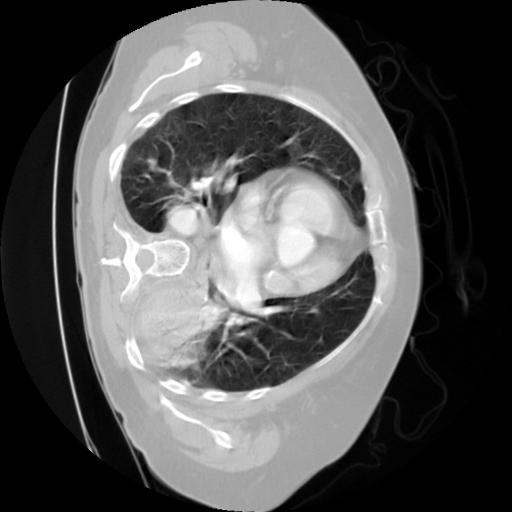nodule: (145, 158, 163, 176)
